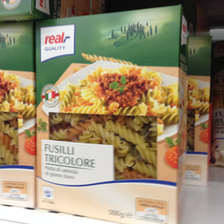pasta: (34, 5, 187, 224)
